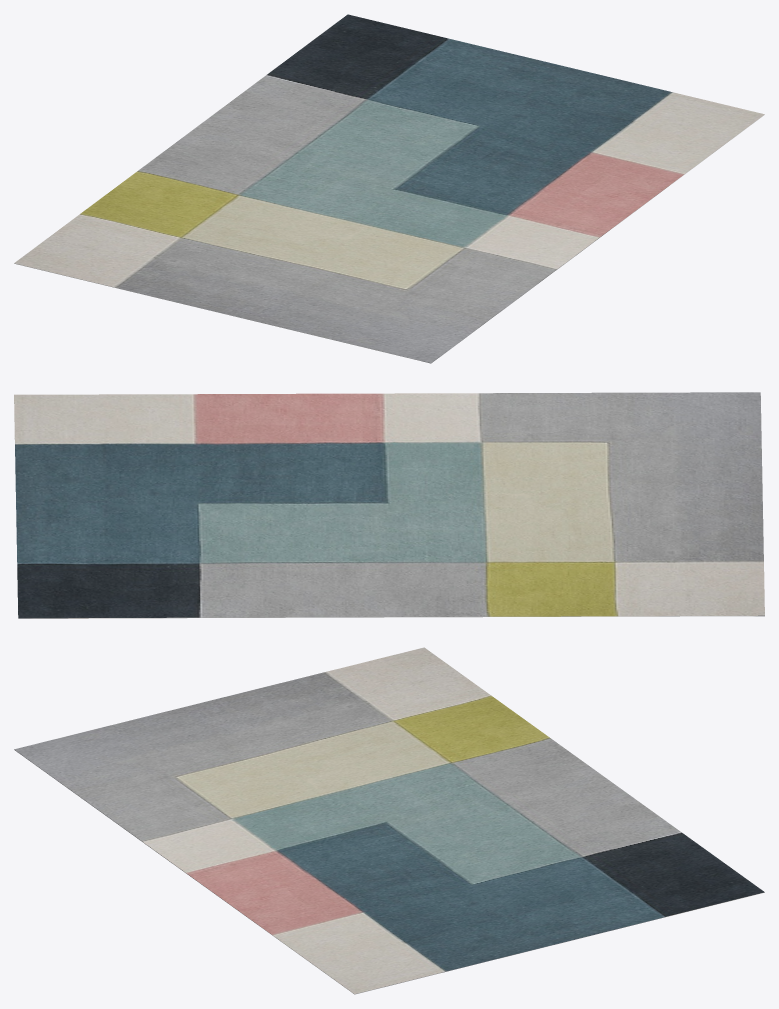
Rendered from carpet.glb.
3 renders of one model, top to bottom at view 1: azimuth 30°, elevation 25°; view 2: azimuth 150°, elevation 25°; view 3: azimuth 270°, elevation 25°, orthographic. The views are drawn at different scales.
Visible parts, largest first — view 1: Object_16; view 2: Object_16; view 3: Object_16.
Boxes of the visible parts, x1,y1,x2,y2 form: Object_16: [14, 14, 764, 363]; Object_16: [14, 392, 764, 618]; Object_16: [14, 647, 764, 994].
Bounding box in the file's own units: 8.11 × 0.00395 × 7.42.
1 material, 1 textured.
